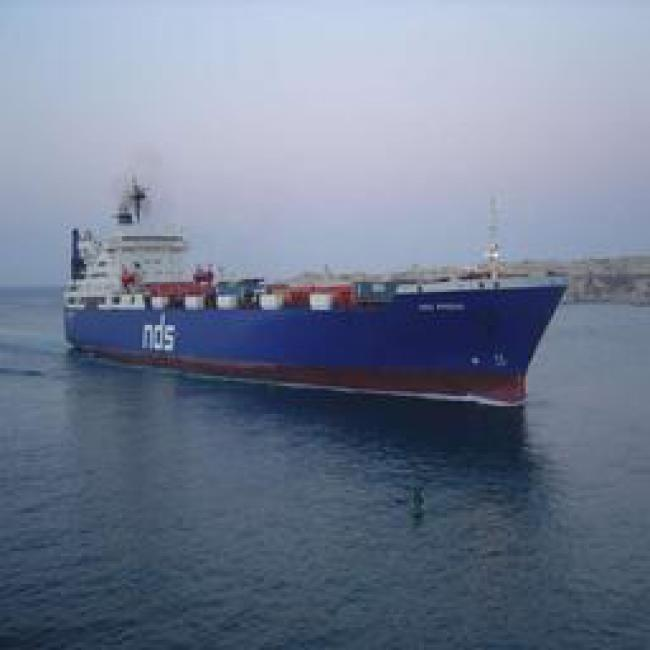Ship: (35, 185, 589, 441)
